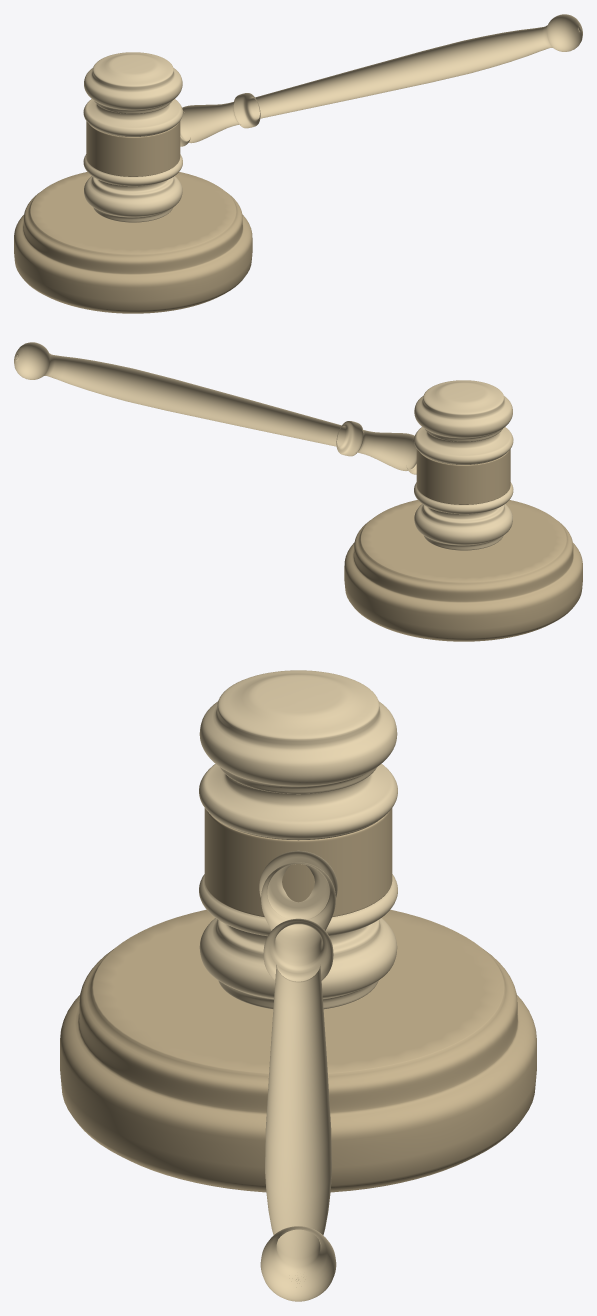
The model's file is gavel.glb.
The picture shows the model from 3 angles, top to bottom: view 1: azimuth 30°, elevation 25°; view 2: azimuth 150°, elevation 25°; view 3: azimuth 270°, elevation 25°; orthographic projection. The views are drawn at different scales.
Parts seen in each view (by area): view 1: gavel, block; view 2: gavel, block; view 3: block, gavel.
Part boxes in pixels (x1=…): gavel: x1=83, y1=14, x2=582, y2=222; block: x1=14, y1=172, x2=252, y2=313; gavel: x1=14, y1=342, x2=513, y2=550; block: x1=344, y1=500, x2=582, y2=641; block: x1=60, y1=909, x2=536, y2=1192; gavel: x1=199, y1=670, x2=397, y2=1301.
Bounding box in the file's own units: 2 × 0.7089 × 0.7507.
